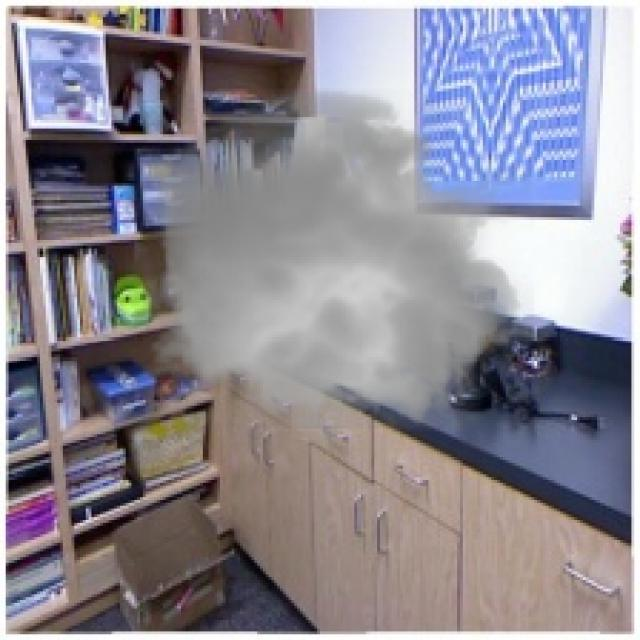smoke: (135, 77, 534, 446)
